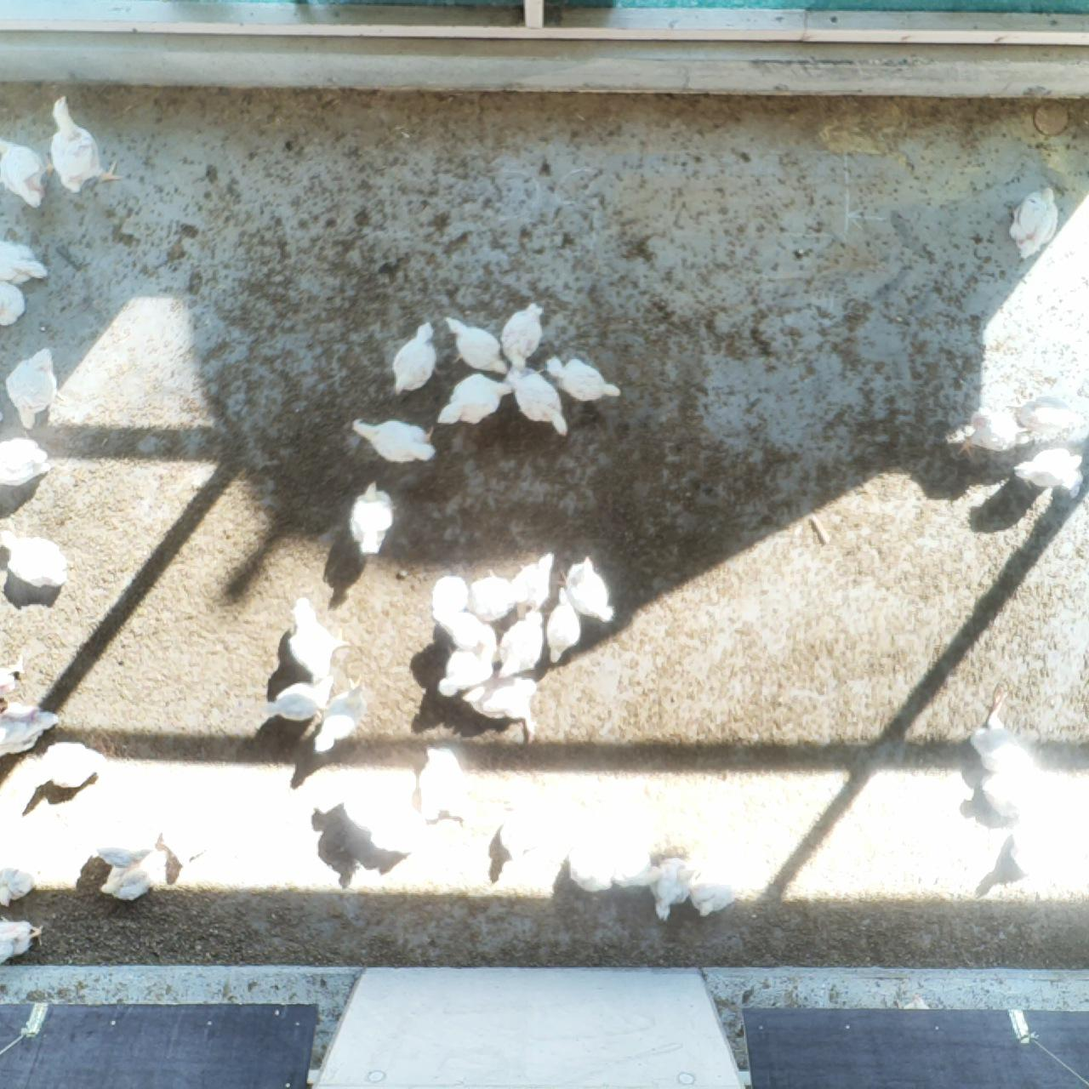chicken: (46, 91, 123, 195), (967, 678, 1043, 778), (285, 593, 352, 681), (466, 671, 543, 743), (24, 736, 112, 794), (2, 344, 60, 432), (1001, 796, 1060, 882), (310, 674, 372, 755), (506, 362, 571, 438), (426, 743, 483, 829), (975, 765, 1062, 820), (953, 396, 1026, 460), (350, 413, 438, 466), (0, 524, 70, 589), (687, 840, 743, 919), (437, 633, 502, 701), (438, 371, 514, 427), (1007, 180, 1060, 260), (0, 135, 57, 209), (441, 315, 510, 376), (545, 349, 624, 402), (254, 671, 338, 720), (561, 556, 618, 626), (346, 477, 396, 556), (498, 299, 550, 374), (1011, 443, 1085, 495), (495, 606, 545, 681), (1014, 390, 1087, 441), (645, 856, 697, 925), (0, 701, 58, 762), (391, 321, 439, 394), (566, 830, 618, 894), (498, 798, 547, 865), (433, 611, 500, 660), (0, 431, 56, 488), (545, 583, 583, 666), (159, 807, 209, 869), (604, 840, 666, 889), (466, 568, 520, 624), (513, 552, 556, 621), (0, 909, 47, 970), (100, 854, 162, 899), (91, 829, 157, 870), (342, 785, 395, 834), (368, 811, 427, 855), (0, 236, 50, 284), (416, 757, 451, 824), (430, 570, 470, 626), (0, 860, 43, 910), (0, 279, 31, 328), (0, 651, 26, 696), (899, 992, 933, 1015)
